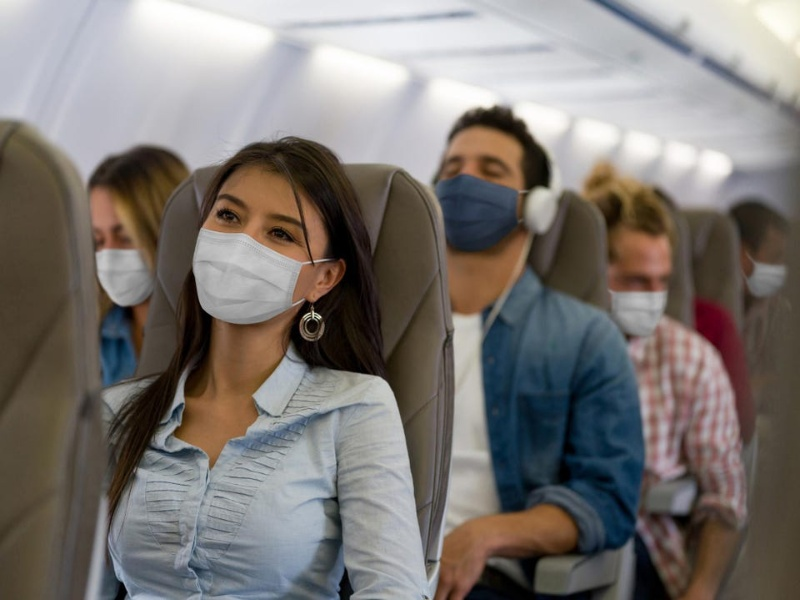mask: (189, 227, 304, 328), (434, 172, 520, 255), (93, 246, 155, 310), (609, 290, 673, 336), (743, 260, 792, 302)
